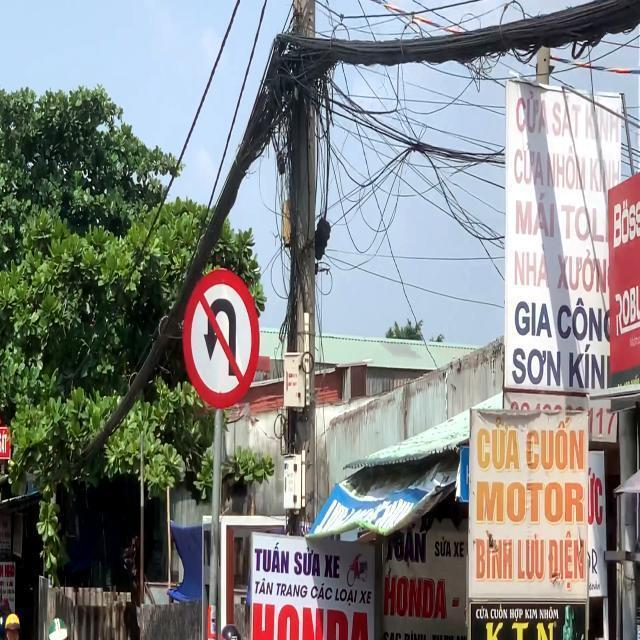124a-cam-quay-dau-xe: (186, 270, 258, 406)
